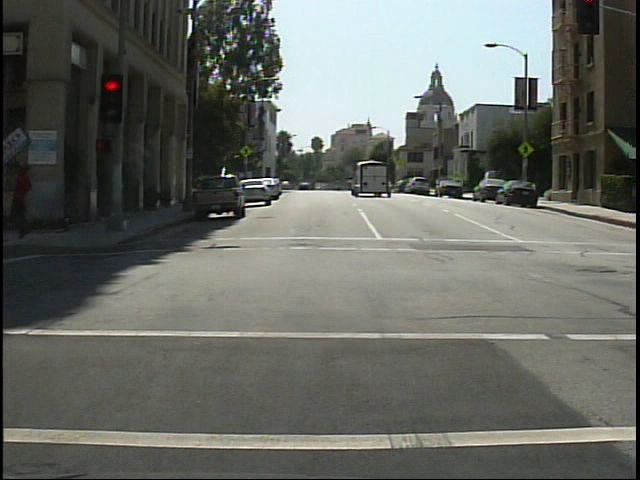person: (7, 161, 48, 242)
